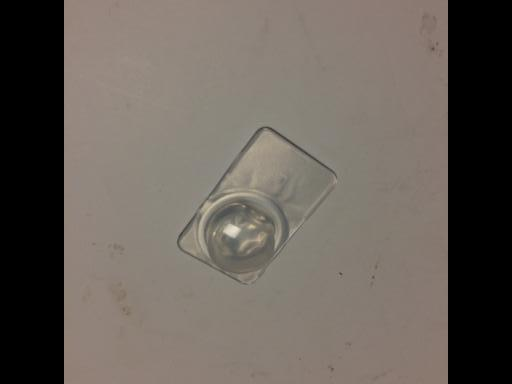trash: (177, 127, 338, 286)
